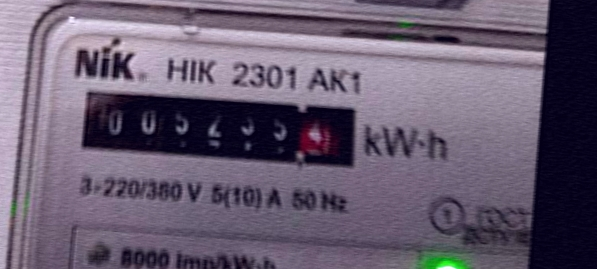0: (137, 105, 160, 140), (105, 107, 126, 139)
2: (203, 107, 227, 143)
3: (236, 108, 262, 143)
4: (304, 113, 329, 151)
5: (269, 110, 294, 147), (171, 106, 193, 140)
screen: (64, 75, 372, 185)
